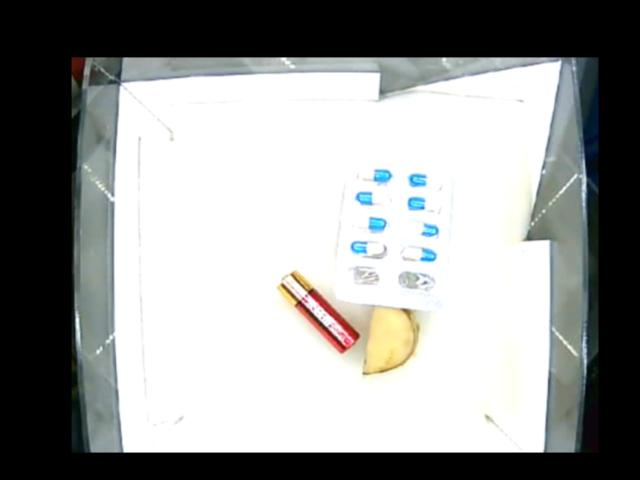Battery: (277, 271, 358, 354)
Medicine: (339, 158, 448, 314)
Potato: (366, 304, 418, 376)
